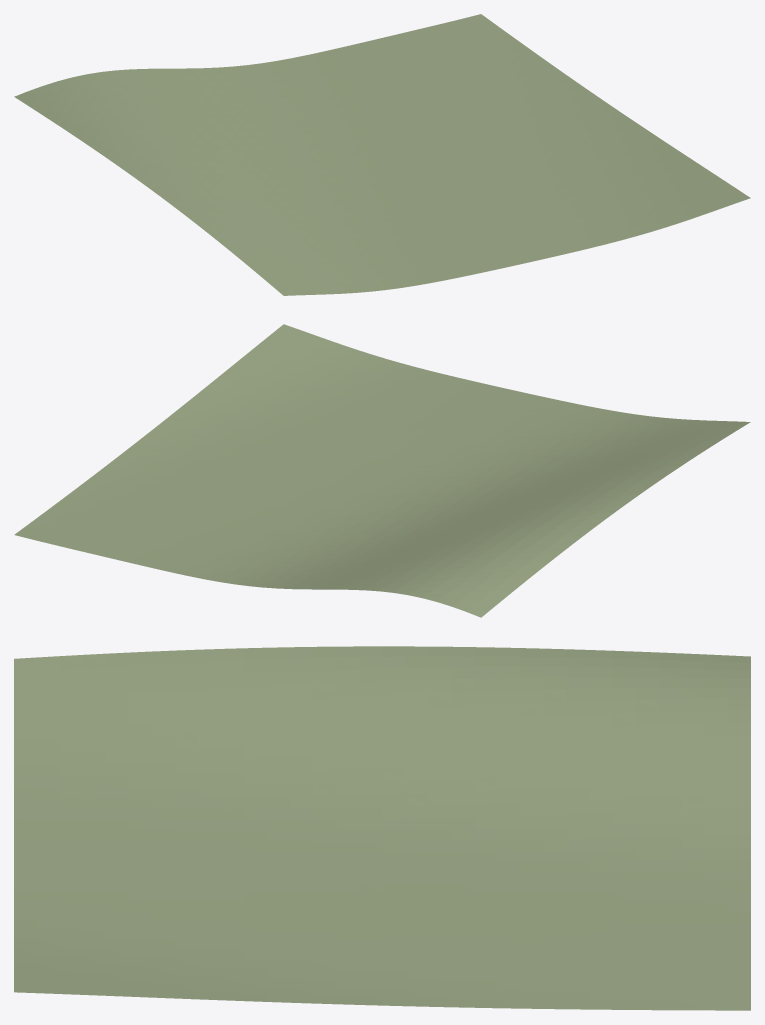
File: desert-10-6.glb
The picture shows the model from 3 angles, top to bottom: view 1: azimuth 30°, elevation 25°; view 2: azimuth 150°, elevation 25°; view 3: azimuth 270°, elevation 25°; orthographic projection. The views are drawn at different scales.
Visible parts, largest first — view 1: desert-10-6; view 2: desert-10-6; view 3: desert-10-6.
Boxes of the visible parts, x1,y1,x2,y2 form: desert-10-6: (14, 14, 750, 295); desert-10-6: (14, 324, 750, 617); desert-10-6: (14, 646, 750, 1010).
Bounding box in the file's own units: 512 × 40.59 × 512.
